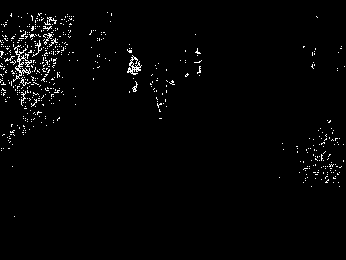person: (150, 62, 173, 119), (125, 45, 142, 93)
